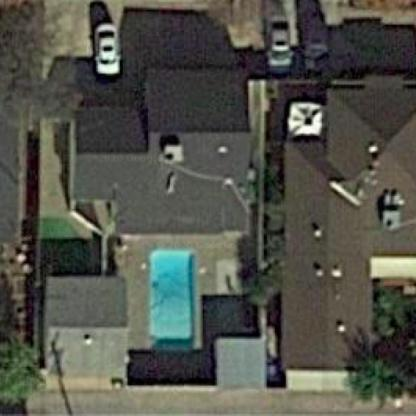car: (83, 10, 124, 82), (259, 10, 295, 79)
swimming_pool: (147, 243, 209, 363)
